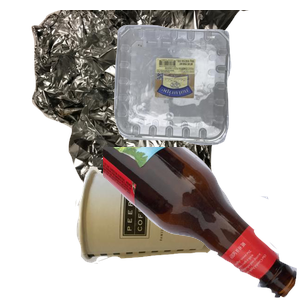glass: (103, 147, 300, 300)
metal: (29, 10, 269, 190)
plastic: (112, 22, 300, 160)
trash: (73, 164, 278, 300)
